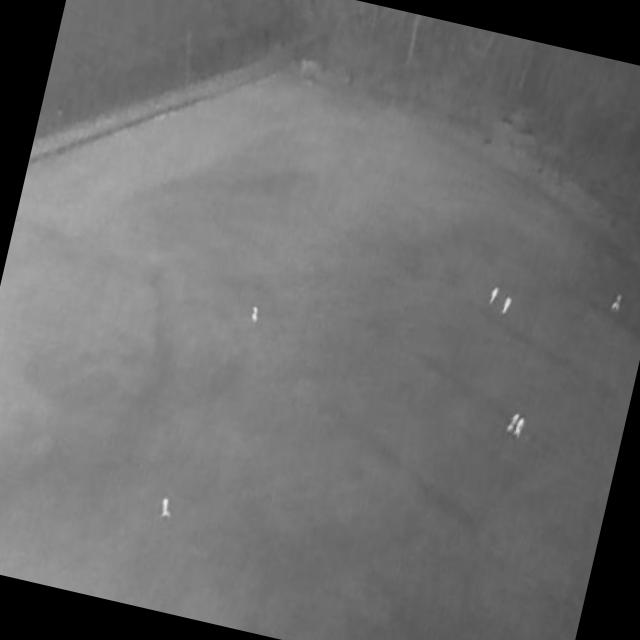person: (157, 498, 173, 523), (500, 296, 512, 318), (512, 417, 524, 439), (610, 292, 623, 312), (506, 414, 518, 435), (488, 286, 499, 306), (250, 305, 261, 324)
